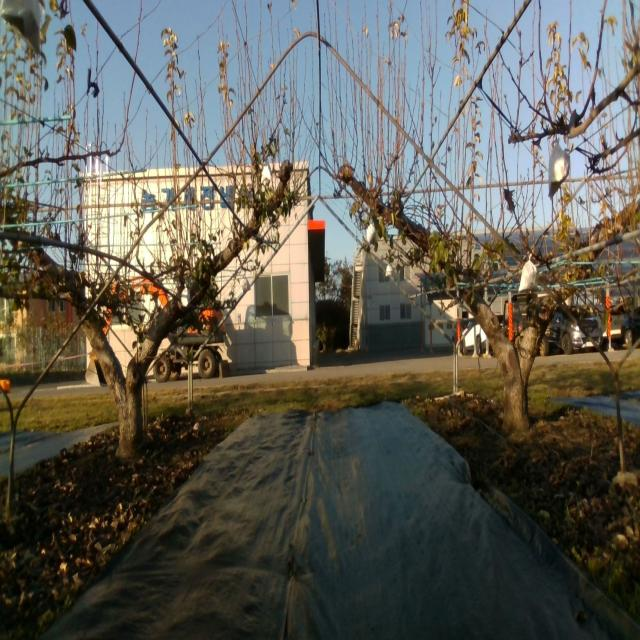pearbags: (0, 0, 42, 53), (548, 143, 571, 199), (518, 254, 537, 292), (259, 160, 272, 182)
